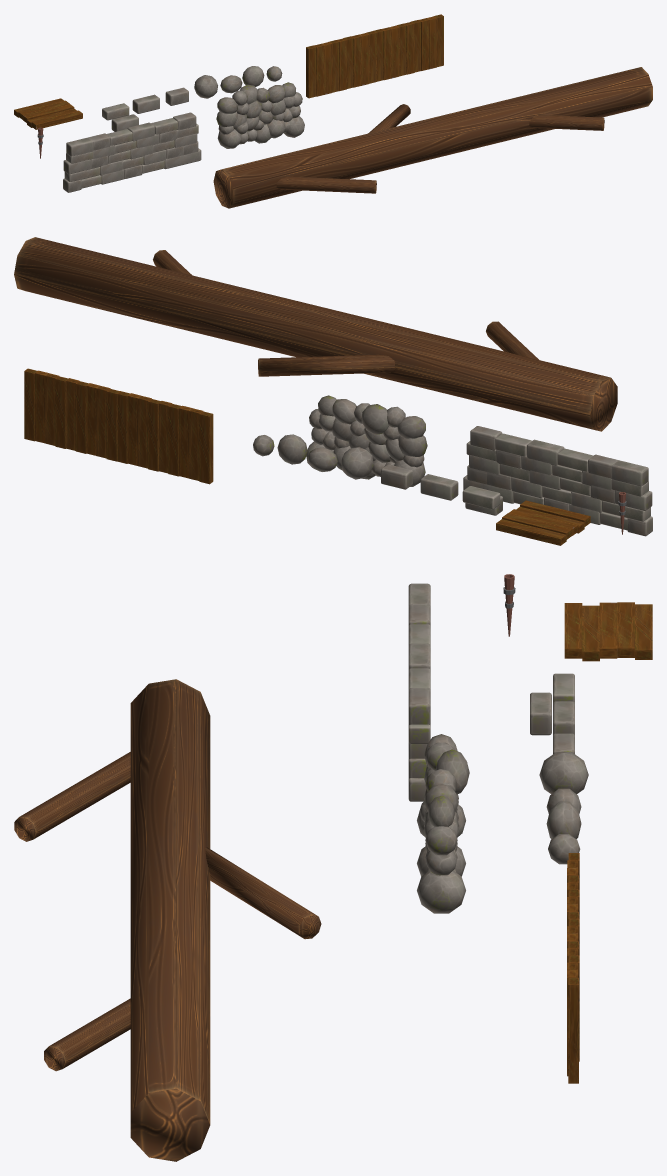
Rendered from Wood_Rocks_Torch_wall.fbx.
The picture shows the model from 3 angles, top to bottom: view 1: azimuth 30°, elevation 25°; view 2: azimuth 150°, elevation 25°; view 3: azimuth 270°, elevation 25°; orthographic projection. The views are drawn at different scales.
Visible parts, largest first — view 1: Cylinder.011, Cube.114, Cube.121, Icosphere.058, Cube.039, Icosphere.003, Cube.001, Icosphere.001, Cube, Cube.002, Cube.051, Cube.037 (+1 smaller); view 2: Cylinder.011, Cube.114, Cube.121, Icosphere.058, Cube.035, Icosphere.003, Cube.001, Icosphere.001, Cube, Cube.002, Cube.039, Icosphere (+2 smaller); view 3: Cylinder.011, Icosphere.058, Cube.121, Cube.114, Icosphere.003, Cube.037, Cube.039, Icosphere.001, Cube.038, Cube.035, Cube.036, Cube.051.
Boxes of the visible parts, box(x1,y1,x2,y2) form: Cylinder.011: box(213, 67, 652, 208); Cube.114: box(306, 14, 443, 98); Cube.121: box(63, 112, 201, 192); Icosphere.058: box(216, 82, 304, 148); Cube.039: box(31, 110, 82, 129); Icosphere.003: box(194, 75, 217, 98); Cube.001: box(132, 94, 159, 113); Icosphere.001: box(242, 66, 264, 86); Cube: box(102, 103, 129, 120); Cube.002: box(165, 87, 188, 105); Cube.051: box(111, 114, 138, 131); Cube.037: box(23, 104, 74, 122); Cylinder.011: box(14, 237, 617, 431); Cube.114: box(24, 368, 213, 484); Cube.121: box(463, 426, 652, 536); Icosphere.058: box(306, 395, 427, 486); Cube.035: box(496, 519, 566, 545); Icosphere.003: box(341, 447, 373, 479); Cube.001: box(420, 474, 458, 500); Icosphere.001: box(277, 434, 307, 464); Cube: box(462, 486, 500, 509); Cube.002: box(381, 464, 412, 489); Cube.039: box(520, 500, 590, 526); Icosphere: box(307, 447, 337, 471); Cylinder.011: box(14, 679, 321, 1161); Icosphere.058: box(417, 734, 469, 913); Cube.121: box(408, 583, 430, 801); Cube.114: box(567, 853, 579, 1083); Icosphere.003: box(539, 752, 588, 794); Cube.037: box(599, 602, 617, 658); Cube.039: box(564, 603, 582, 658); Icosphere.001: box(546, 801, 581, 838); Cube.038: box(582, 605, 599, 661); Cube.035: box(635, 604, 652, 659); Cube.036: box(617, 602, 634, 657); Cube.051: box(530, 692, 551, 735).
Size of the model in its own units: 1525 by 167 by 810.
